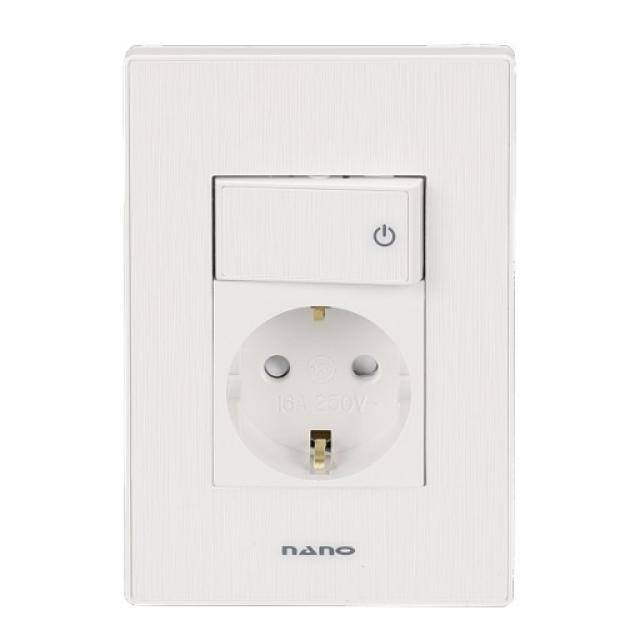typeb: (117, 30, 538, 622)
